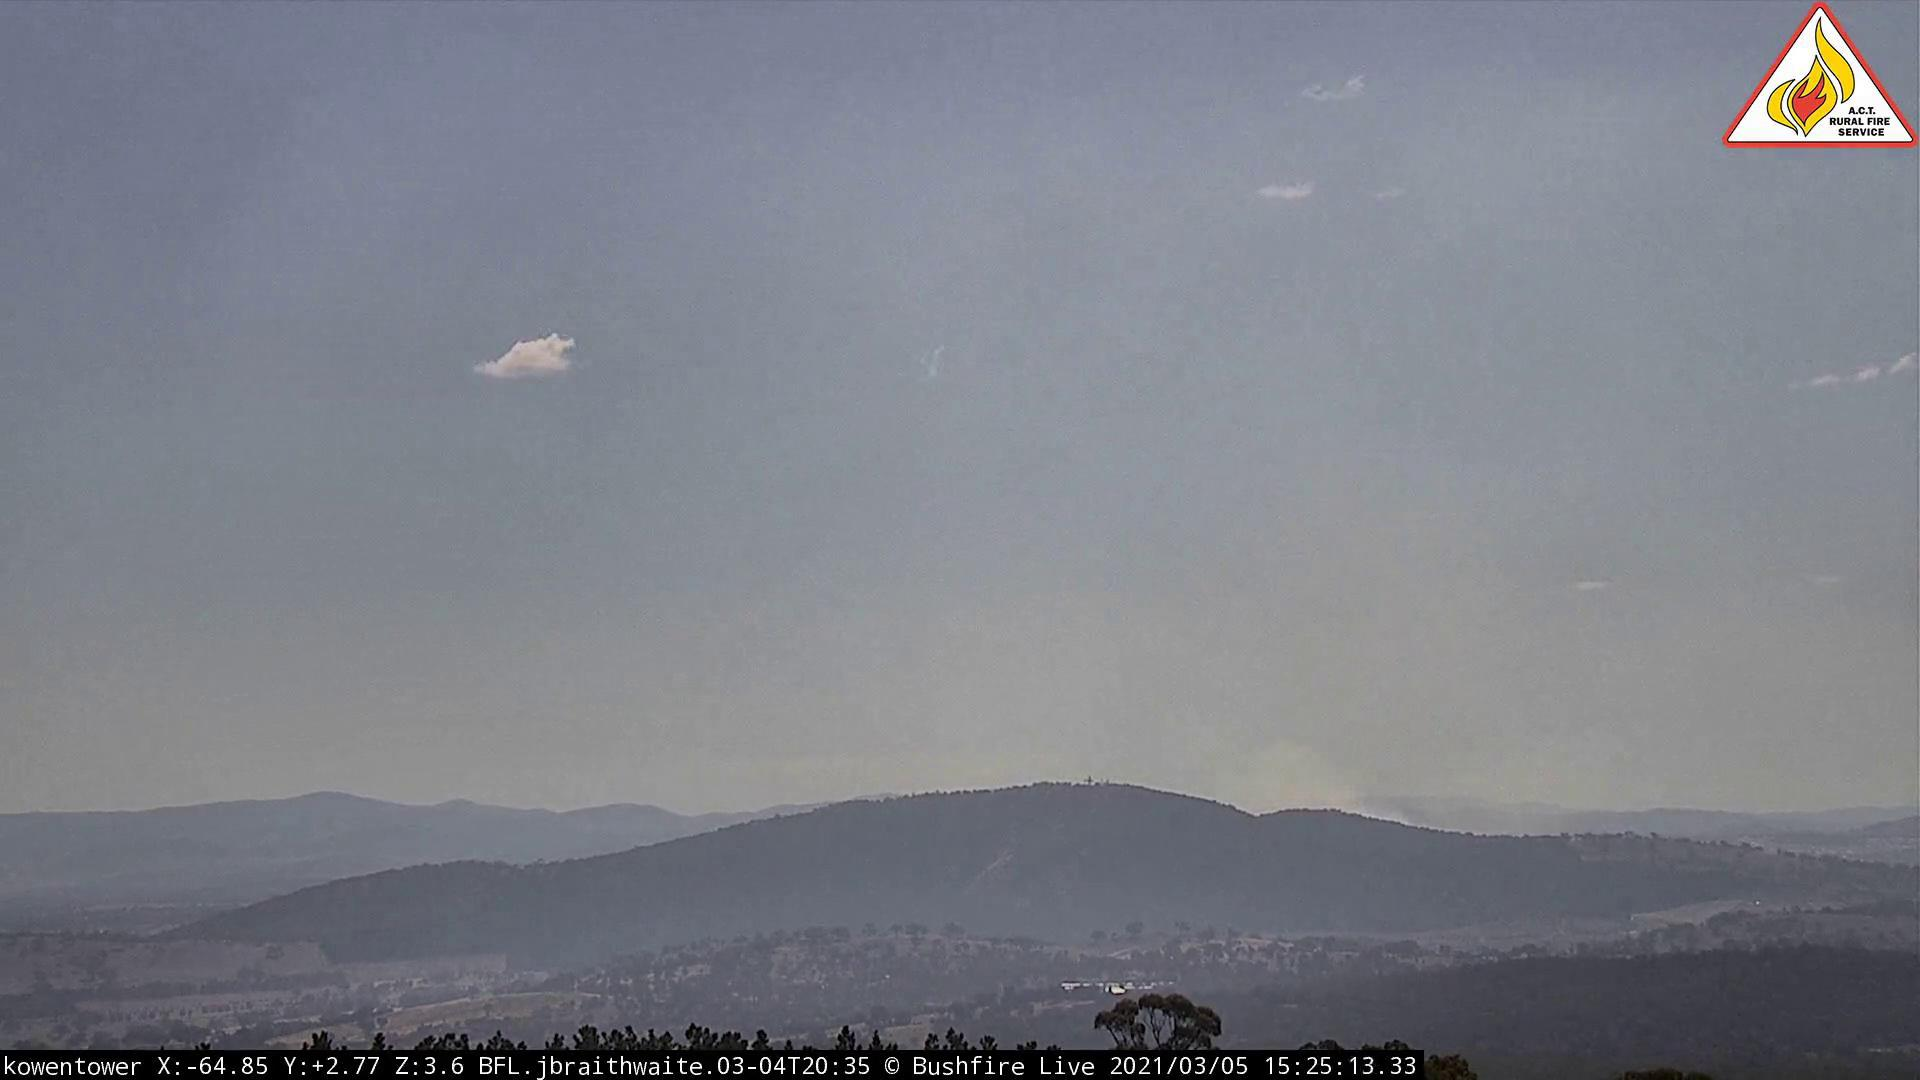Smoke: (728, 452, 1424, 831)
